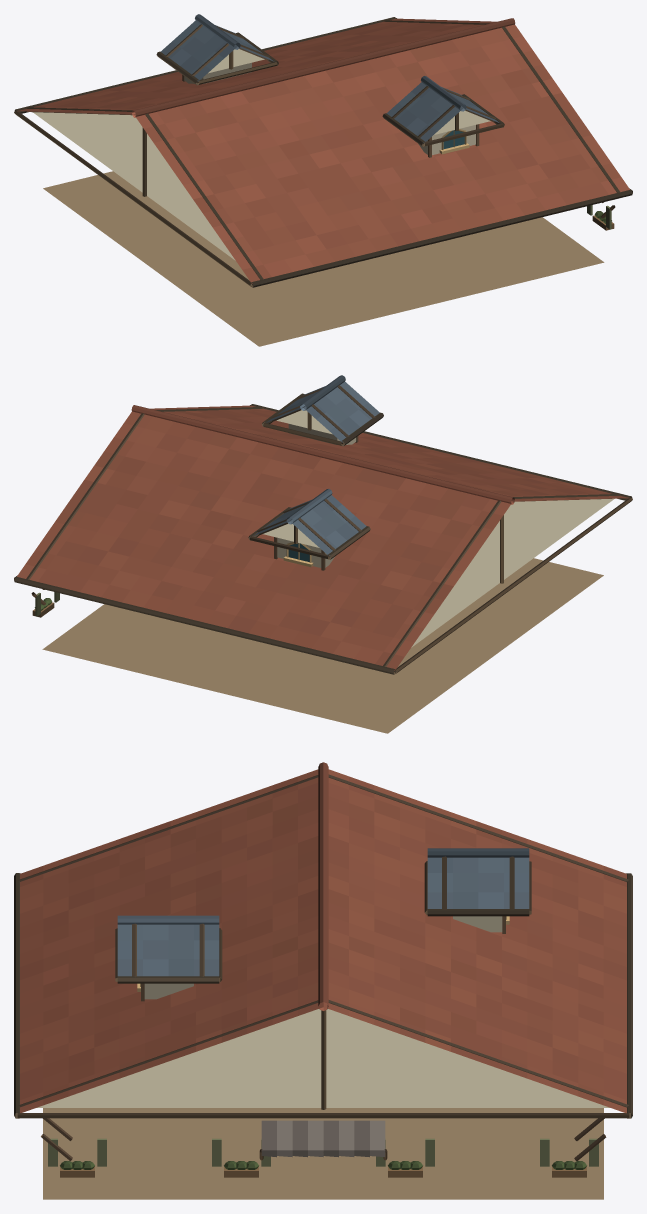
3 renders of one model, top to bottom at view 1: azimuth 30°, elevation 25°; view 2: azimuth 150°, elevation 25°; view 3: azimuth 270°, elevation 25°, orthographic. The views are drawn at different scales.
Parts seen in each view (by area): view 1: 526fbd1fb63a28bfef621912e32f85cf1b37a7b6896e17a7abcf99faa520; view 2: 526fbd1fb63a28bfef621912e32f85cf1b37a7b6896e17a7abcf99faa520; view 3: 526fbd1fb63a28bfef621912e32f85cf1b37a7b6896e17a7abcf99faa520.
Part boxes in pixels (x1,y1,x2,y2): 526fbd1fb63a28bfef621912e32f85cf1b37a7b6896e17a7abcf99faa520: (14, 14, 632, 346); 526fbd1fb63a28bfef621912e32f85cf1b37a7b6896e17a7abcf99faa520: (14, 375, 632, 733); 526fbd1fb63a28bfef621912e32f85cf1b37a7b6896e17a7abcf99faa520: (14, 762, 632, 1199).
Size of the model in its own units: 13.63 by 5.32 by 14.02.
7 materials, 1 textured.
